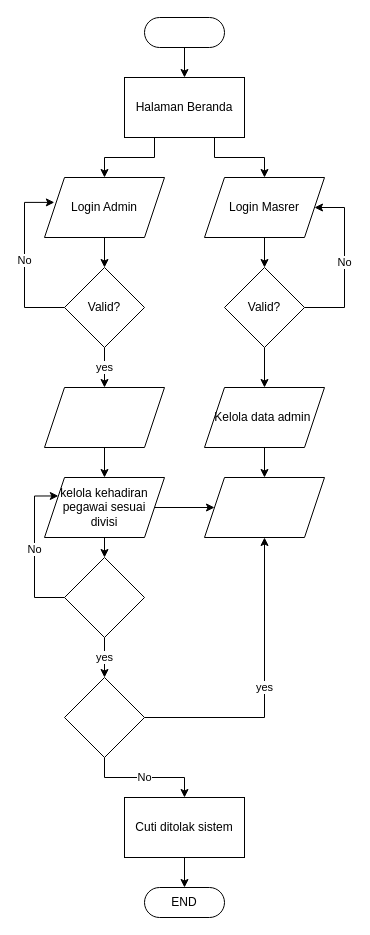
Some shapes in this 370 by 935 pixel diagram are drawn without their labels. The shapes that lost their labels are listed below. From the top down, each one's centre as x and y in pixels, then its label:
At pixel 184 32: "START".
At pixel 104 417: "Input data pegawai sesuai divisi".
At pixel 264 507: "Rekap data kehadiran dan cuti pegawai".
At pixel 104 597: "pegawai cuti ?".
At pixel 104 717: "memenuhi syarat?".
